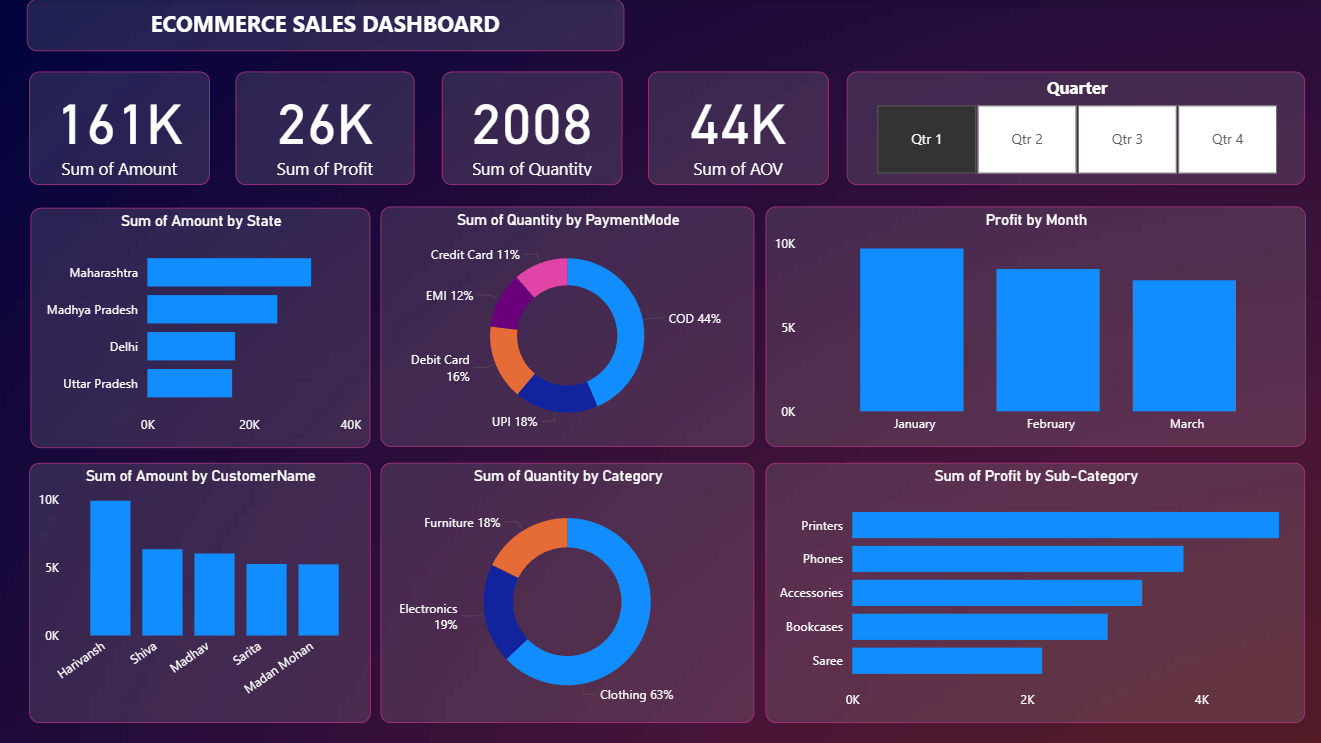

This screenshot's page, from the dashboard's own definition file:
{"tool":"powerbi","page":{"name":"Page 1","canvas":[1280,720],"ordinal":0},"visuals":[{"type":"textbox","box":[27.7,0,576.7,50.7],"z":0},{"type":"columnChart","title":"Profit by Month","fields":{"Category":["Orders.Order Date.Variation.Date Hierarchy.Month"],"Y":["Sum(Details.Profit)"]},"box":[741,200.3,521.4,231.9],"z":1000},{"type":"barChart","fields":{"Category":["Details.Sub-Category"],"Y":["Sum(Details.Profit)"]},"box":[740.8,447.6,521.2,250.9],"z":2000},{"type":"donutChart","fields":{"Category":["Details.Category"],"Y":["Sum(Details.Quantity)"]},"box":[369.2,447.6,360.7,250.9],"z":3000},{"type":"donutChart","fields":{"Category":["Details.PaymentMode"],"Y":["Sum(Details.Quantity)"]},"box":[369.2,200.3,360.7,231.6],"z":4000},{"type":"card","fields":{"Values":["Sum(Details.Amount)"]},"box":[30.1,70.6,174.3,109.8],"z":5000},{"type":"card","fields":{"Values":["Sum(Details.Quantity)"]},"box":[428.1,70.6,174.3,109.8],"z":6000},{"type":"card","fields":{"Values":["Sum(Details.Profit)"]},"box":[229.1,70.6,172.9,109.8],"z":7000},{"type":"card","fields":{"Values":["Sum(Details.AOV)"]},"box":[627.1,70.6,174.3,109.8],"z":8000},{"type":"barChart","fields":{"Category":["Orders.State"],"Y":["Sum(Details.Amount)"]},"box":[31.4,201.5,328.2,231.6],"z":9000},{"type":"columnChart","fields":{"Category":["Orders.CustomerName"],"Y":["Sum(Details.Amount)"]},"box":[30.2,447.6,329.4,250.9],"z":10000},{"type":"slicer","title":"Quarter","fields":{"Values":["Orders.Order Date.Variation.Date Hierarchy.Quarter"]},"box":[819.2,70,442.8,109.8],"z":11000}]}

Visuals, with their boxes in screenshot pixels (x1, y1, x2, y2), scaled from the page's 1280x720 canvas onto the 1321x743 screenshot:
textbox: bbox=[29, 0, 624, 52]
"Profit by Month" columnChart: bbox=[765, 207, 1303, 446]
barChart - Details.Sub-Category x Sum(Details.Profit): bbox=[765, 462, 1302, 721]
donutChart - Details.Category x Sum(Details.Quantity): bbox=[381, 462, 753, 721]
donutChart - Details.PaymentMode x Sum(Details.Quantity): bbox=[381, 207, 753, 446]
card - Sum(Details.Amount): bbox=[31, 73, 211, 186]
card - Sum(Details.Quantity): bbox=[442, 73, 622, 186]
card - Sum(Details.Profit): bbox=[236, 73, 415, 186]
card - Sum(Details.AOV): bbox=[647, 73, 827, 186]
barChart - Orders.State x Sum(Details.Amount): bbox=[32, 208, 371, 447]
columnChart - Orders.CustomerName x Sum(Details.Amount): bbox=[31, 462, 371, 721]
"Quarter" slicer: bbox=[845, 72, 1302, 186]
